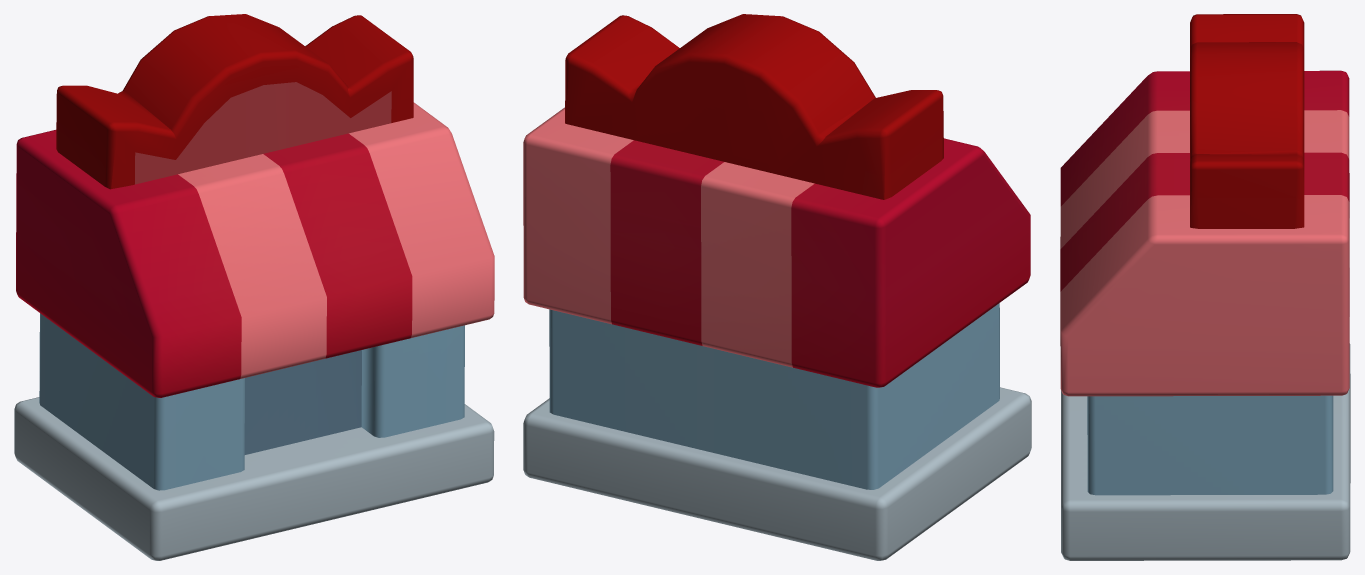
The picture shows the model from 3 angles, left to right: view 1: azimuth 30°, elevation 25°; view 2: azimuth 150°, elevation 25°; view 3: azimuth 270°, elevation 25°; orthographic projection. The views are drawn at different scales.
Visible parts, largest first — view 1: model_1.001; view 2: model_1.001; view 3: model_1.001.
Boxes of the visible parts, <box> form: model_1.001: <box>14,14,494,560</box>; model_1.001: <box>523,14,1031,560</box>; model_1.001: <box>1060,14,1350,560</box>.
Size of the model in its own units: 3.57 by 4.2 by 2.58.
